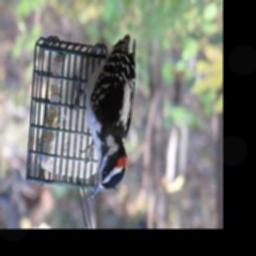Woodpecker: (71, 34, 136, 202)
